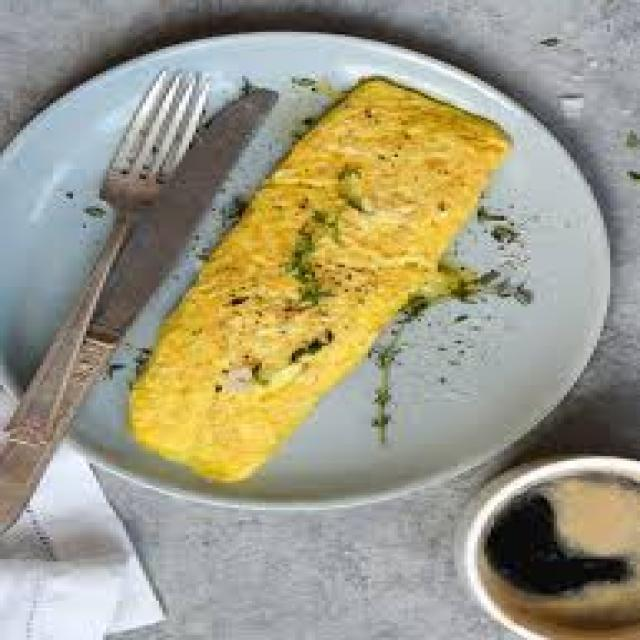telur_ayam_dadar: (126, 78, 511, 486)
